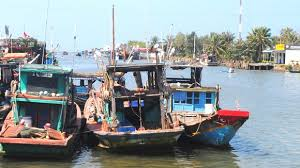tau_dansu: (7, 61, 90, 162), (88, 59, 180, 145), (159, 63, 249, 148)
